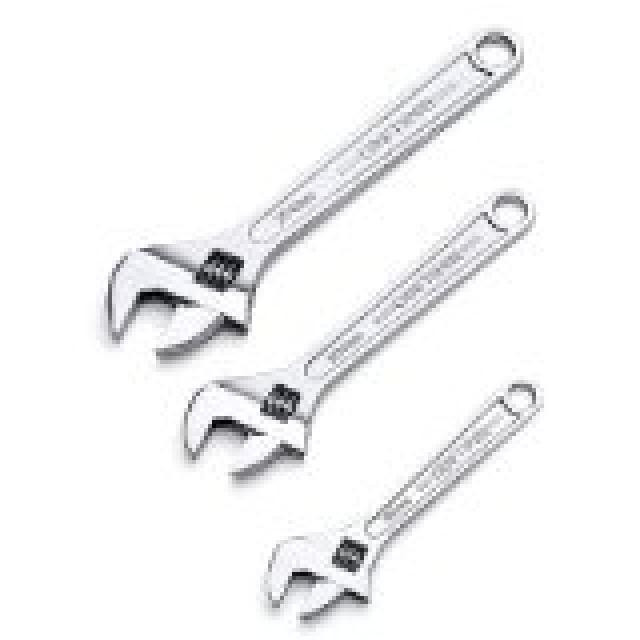wrench: (100, 24, 528, 362), (179, 192, 535, 482), (254, 378, 549, 628)
